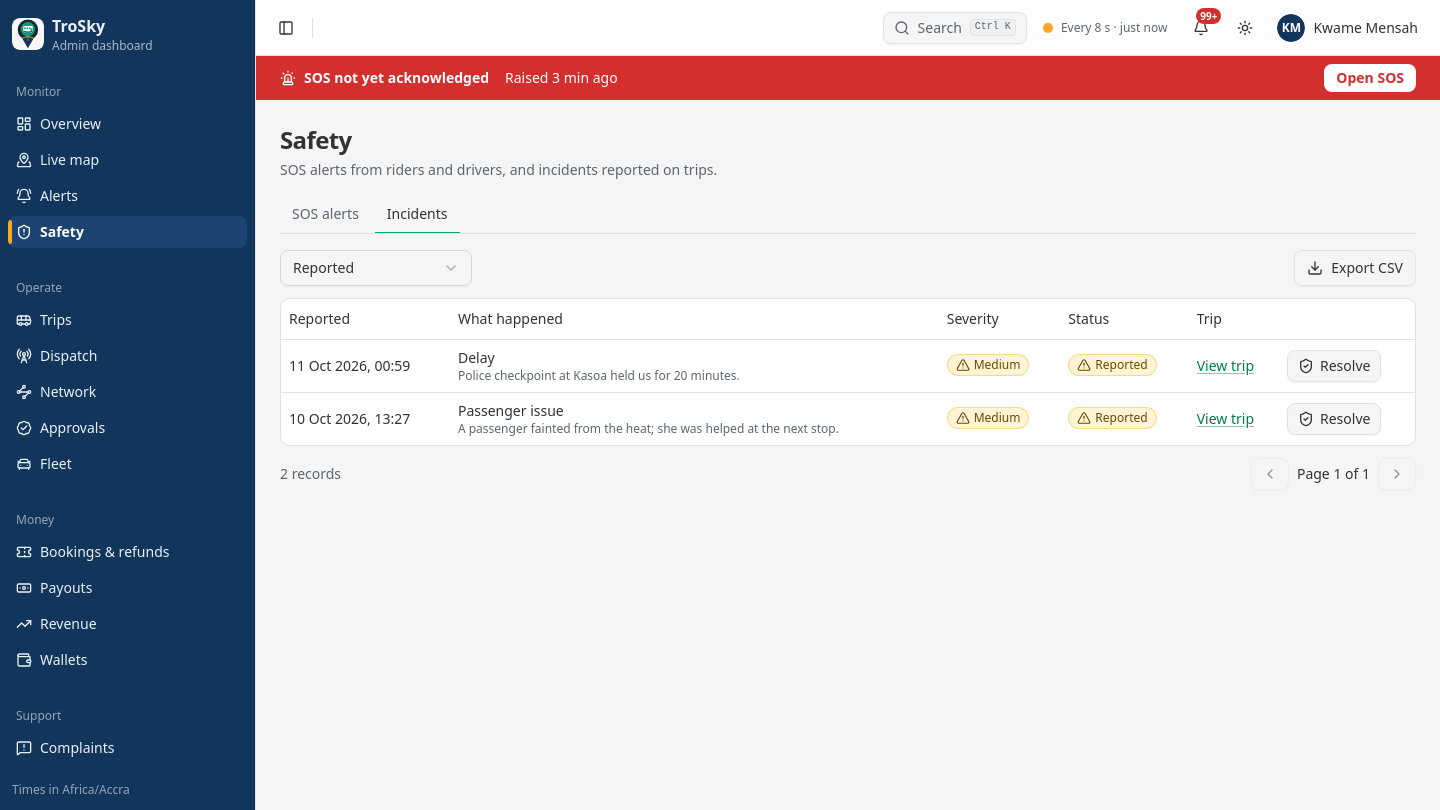
Test: Incidents › are resolved with a note
Click the button "Resolve" in the row of "11 Oct 2026, 00:59" at (1334, 366), box [1287,350,1381,382]
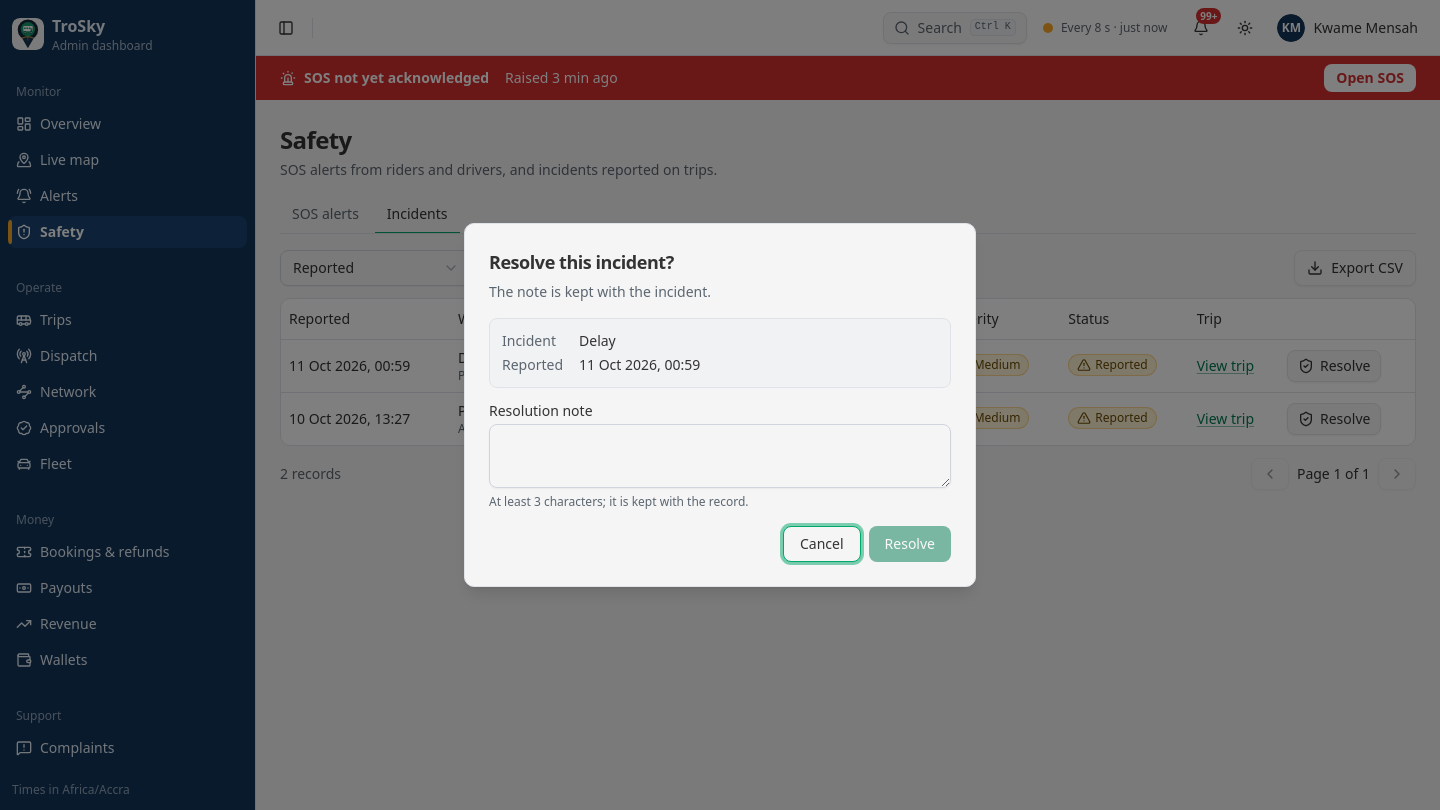
Type "Driver took the Mallam road." into the text box labelled "Resolution note" at (720, 456), box [489,424,951,488]
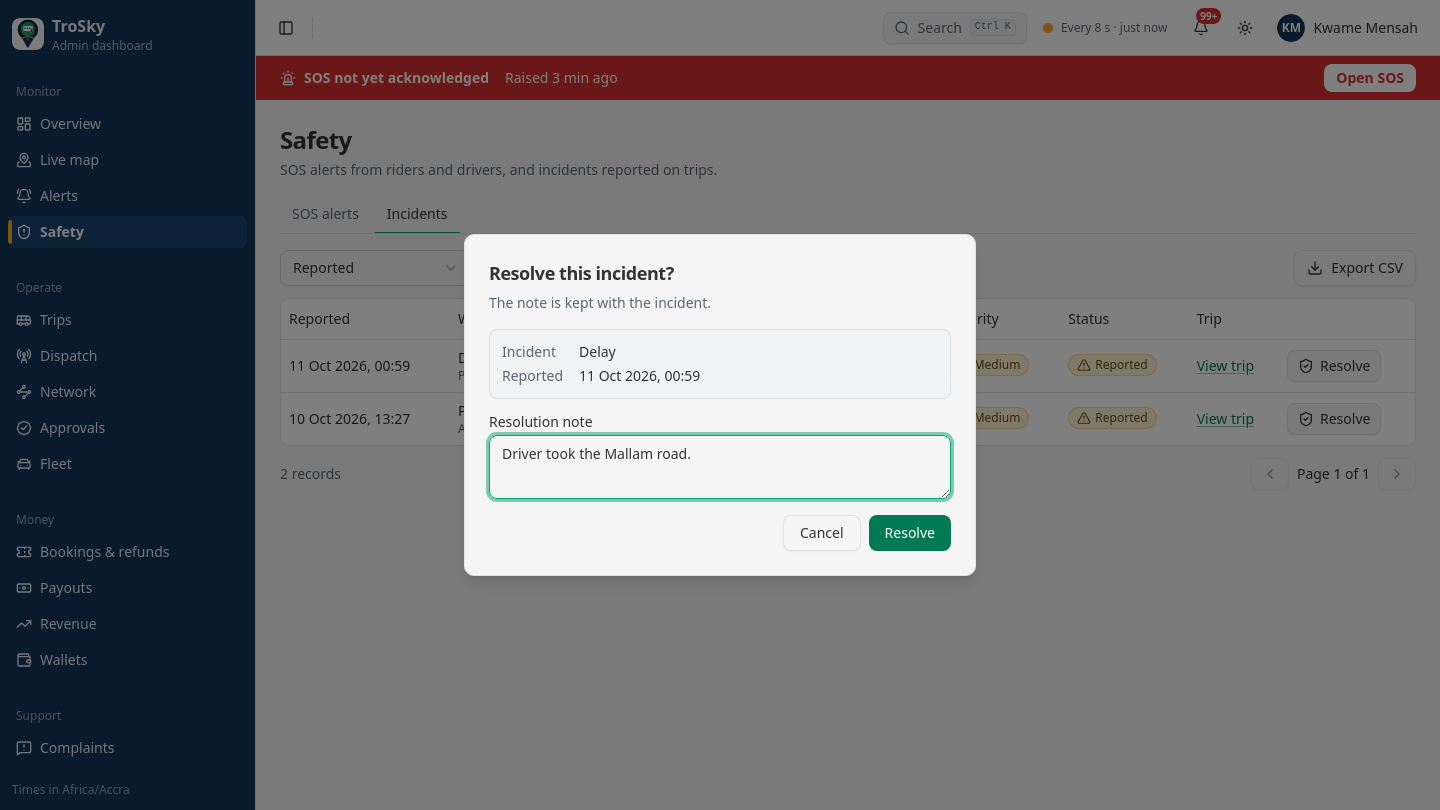
Click the button "Resolve" at (910, 533), box [869,515,951,551]
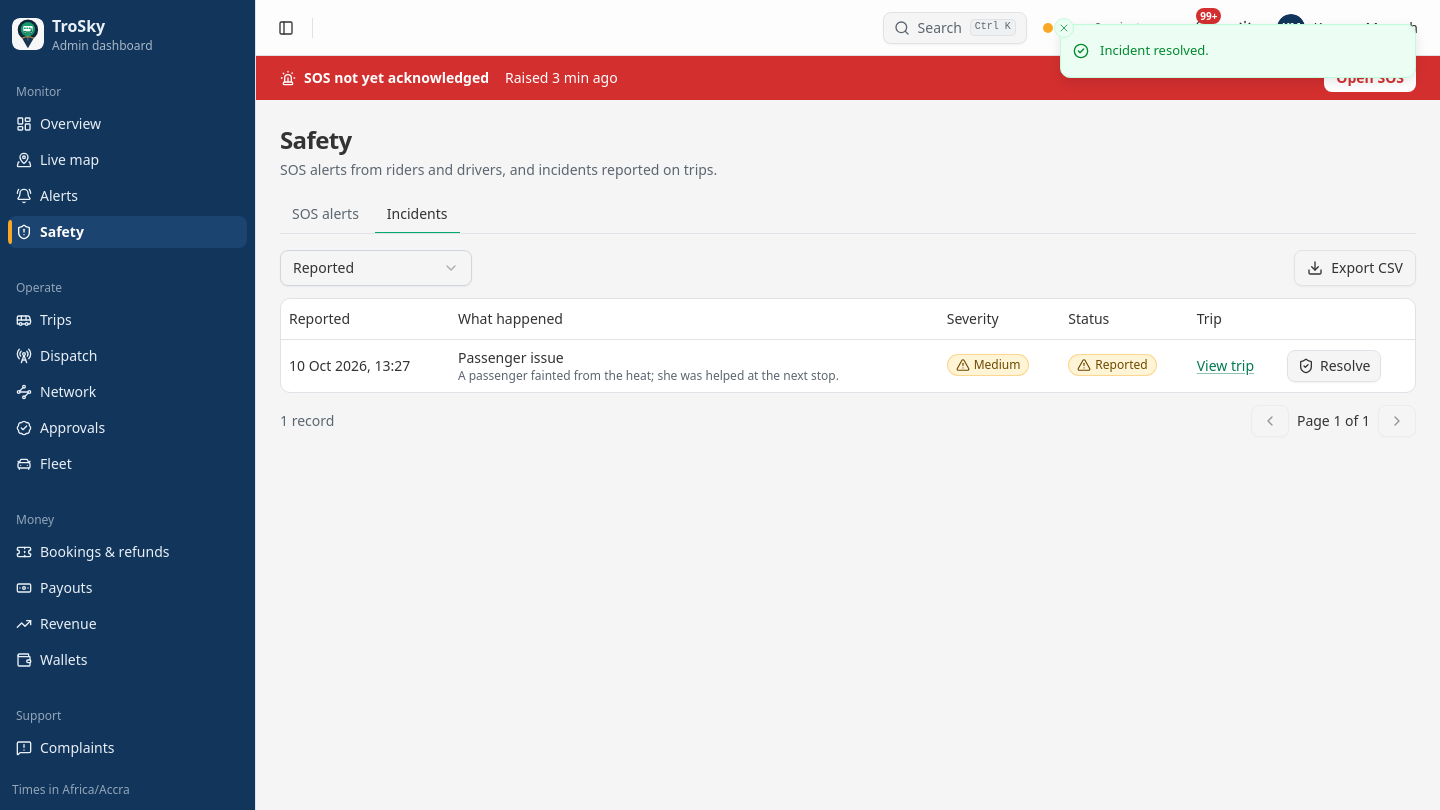
Expected: the text "Incident resolved." is shown, [1100,41,1209,60]
Expected: the number of rows is 2, [281,299,1415,339]; [281,340,1415,392]
